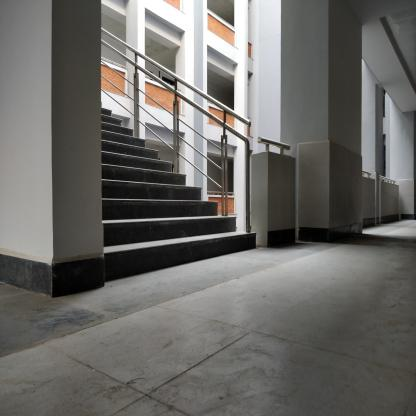stairs: (105, 175, 188, 286)
